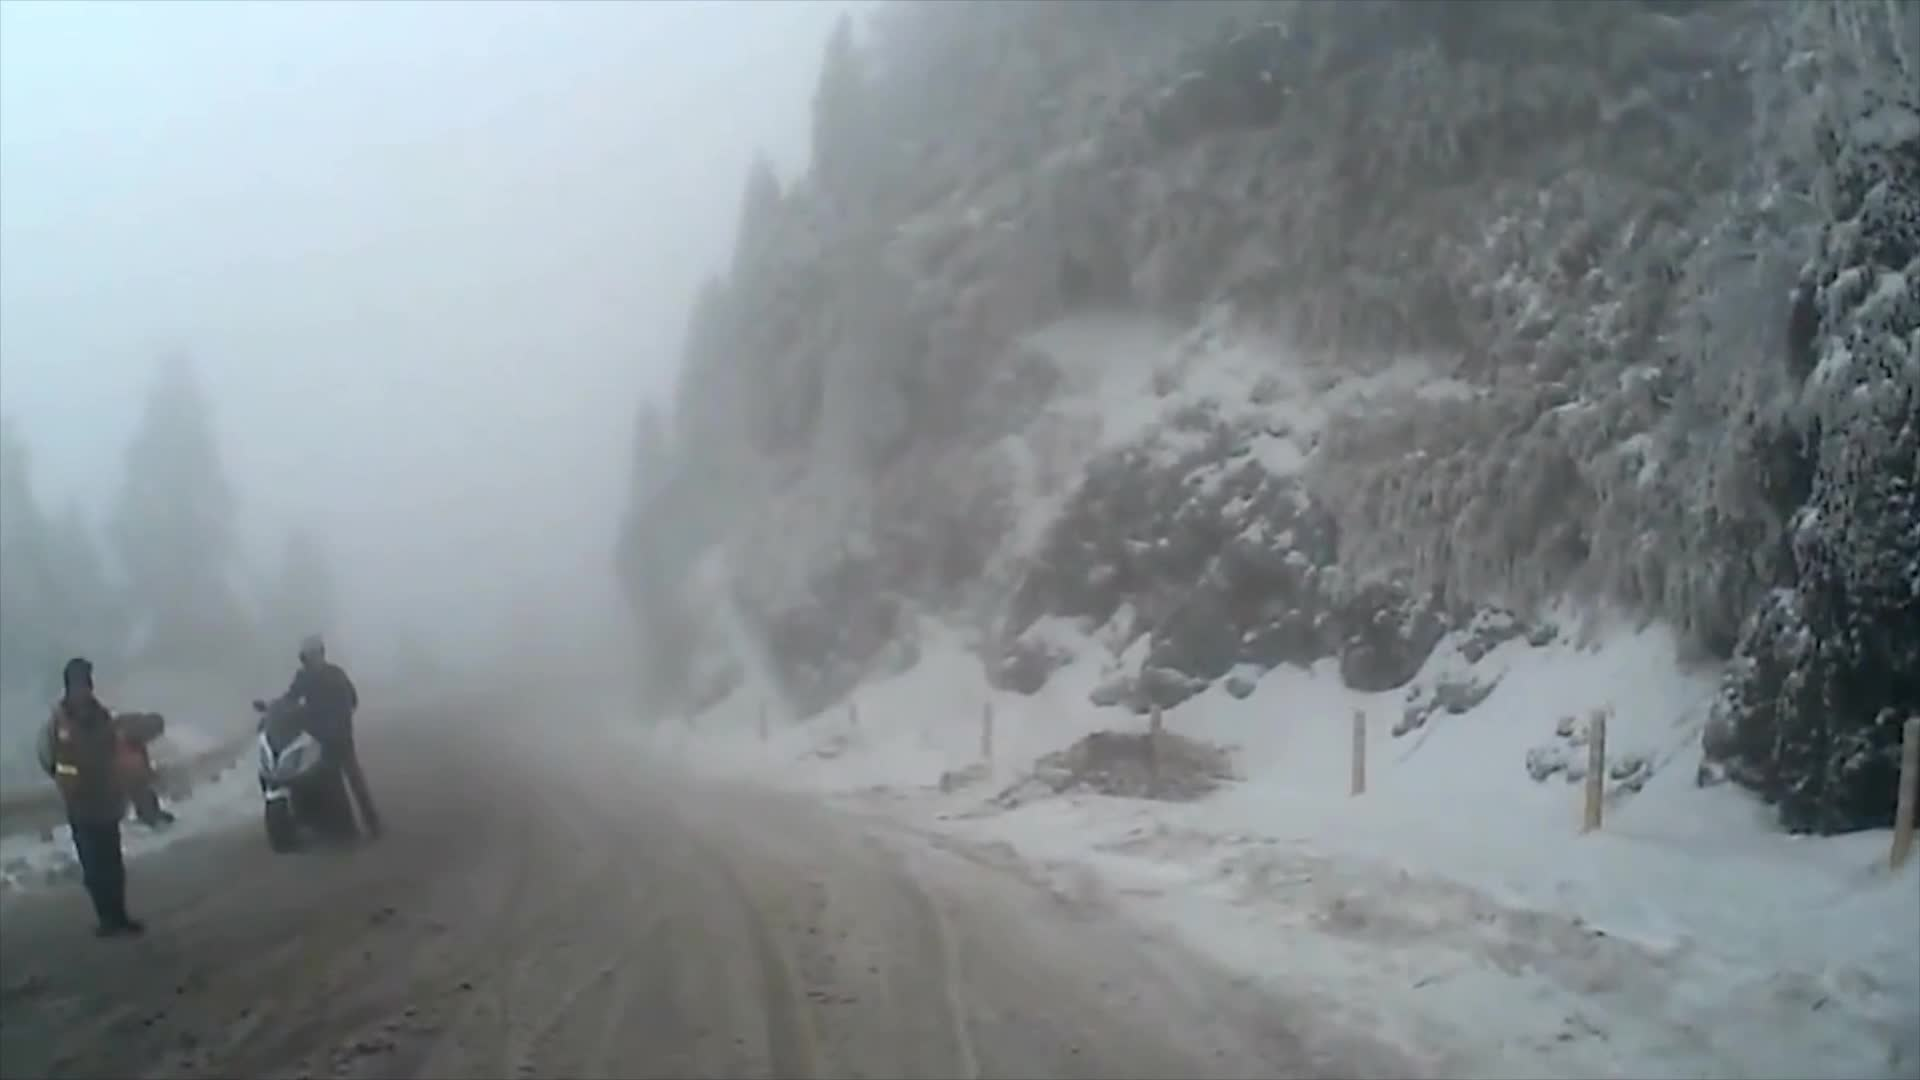pedestrian: (37, 662, 145, 943), (263, 632, 391, 851), (100, 712, 174, 833)
